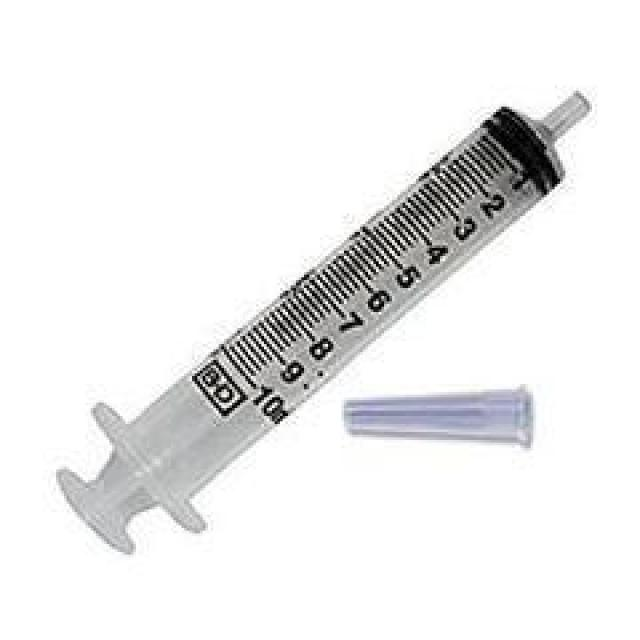B3: (48, 91, 589, 565)
